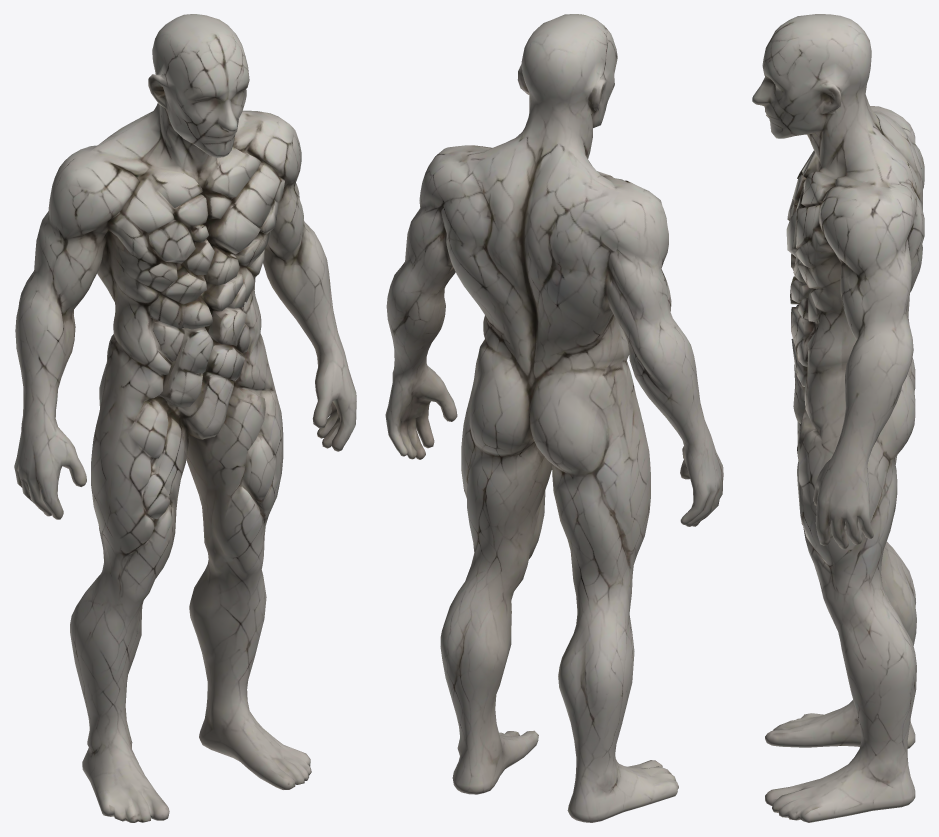
File: Ruins__crumbling_6114e60b_v3.cluster.glb
3 renders of one model, left to right at view 1: azimuth 30°, elevation 25°; view 2: azimuth 150°, elevation 25°; view 3: azimuth 270°, elevation 25°, orthographic.
Parts seen in each view (by area): view 1: material; view 2: material; view 3: material.
Boxes of the visible parts, <box> form: material: <box>14,14,356,822</box>; material: <box>385,14,723,822</box>; material: <box>752,14,924,822</box>.
Size of the model in its own units: 0.8581 by 1.9 by 0.3929.
Materials: 1 (1 with a texture image).
